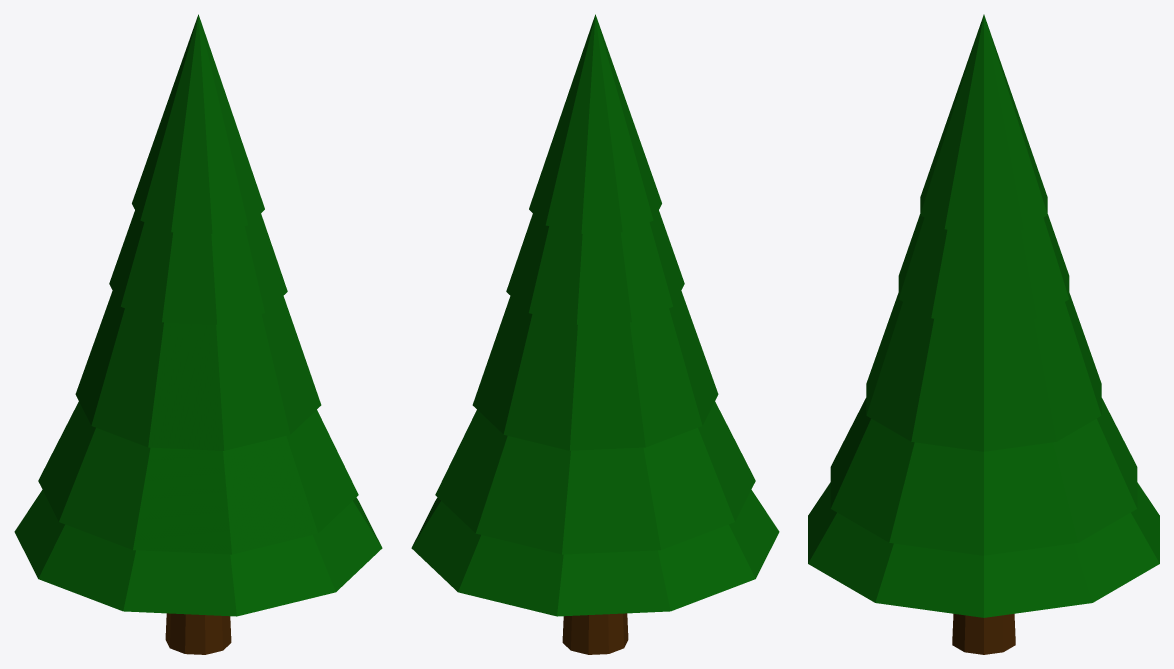
Rendered from ARBRE_02.fbx.
3 renders of one model, left to right at view 1: azimuth 30°, elevation 25°; view 2: azimuth 150°, elevation 25°; view 3: azimuth 270°, elevation 25°, orthographic.
Parts seen in each view (by area): view 1: ARBRE_02; view 2: ARBRE_02; view 3: ARBRE_02.
Part boxes in pixels (box(x1,y1,x2,y2)): ARBRE_02: box(14, 14, 382, 654); ARBRE_02: box(411, 14, 779, 654); ARBRE_02: box(808, 14, 1159, 654).
Bounding box in the file's own units: 12.75 × 23.83 × 12.12.
